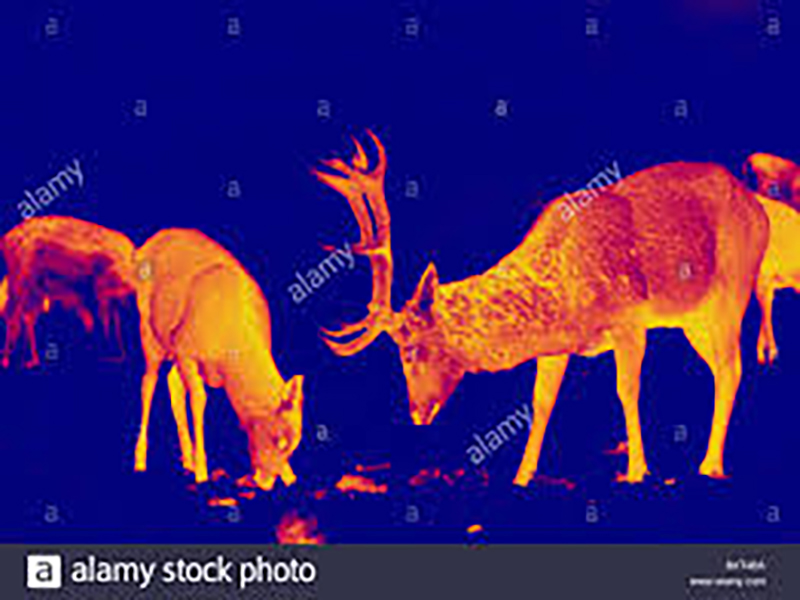cervo: (310, 124, 774, 495), (127, 228, 306, 495)
